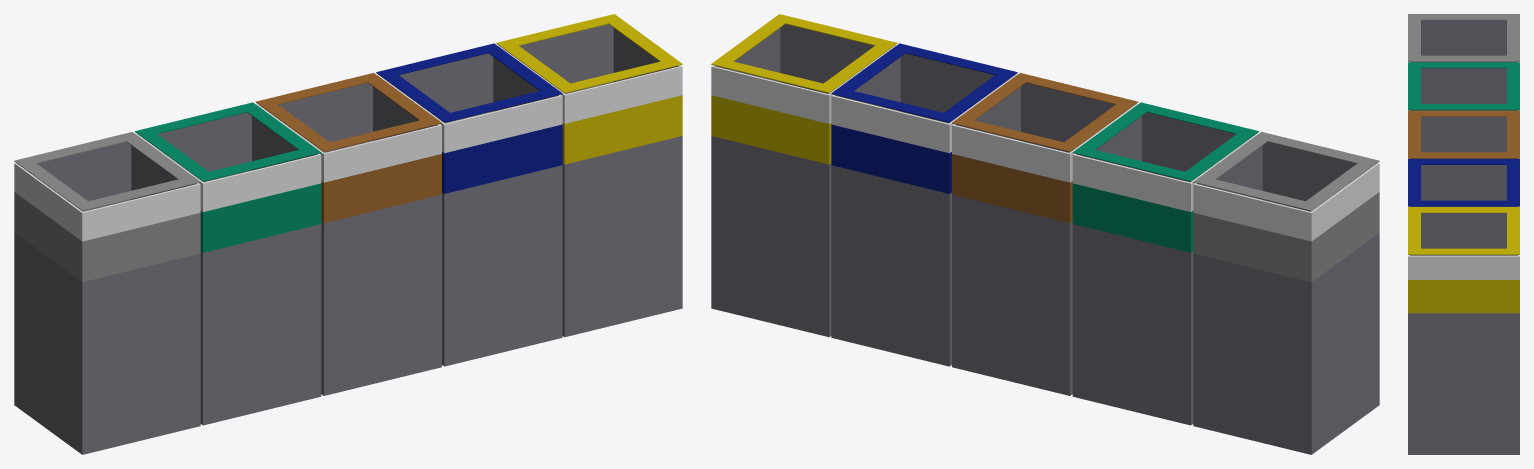
File: Cestini_corridoio.fbx
3 views of the same model, side by side, from view 1: azimuth 30°, elevation 25°; view 2: azimuth 150°, elevation 25°; view 3: azimuth 270°, elevation 25° (orthographic). The views are drawn at different scales.
Parts seen in each view (by area): view 1: Cestini joined.002; view 2: Cestini joined.002; view 3: Cestini joined.002.
Part boxes in pixels (bbox=[...]): Cestini joined.002: bbox=[14, 14, 682, 454]; Cestini joined.002: bbox=[711, 14, 1379, 454]; Cestini joined.002: bbox=[1408, 14, 1519, 454].
Bounding box in the file's own units: 460 × 179 × 90.62.
